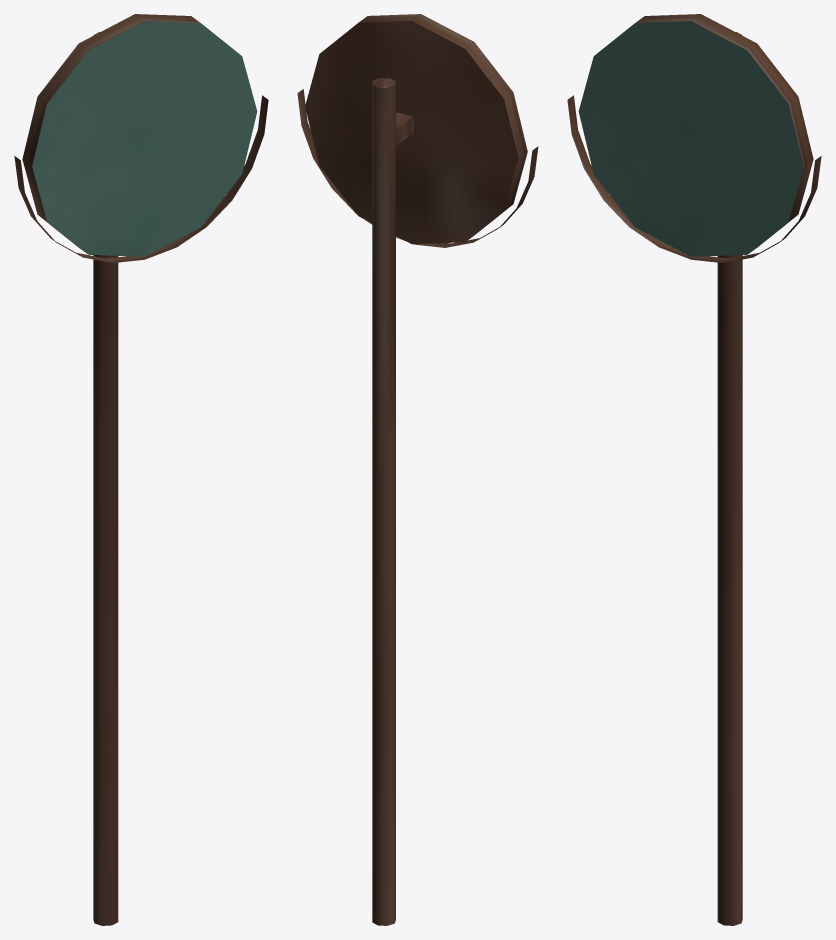
Rendered from curve_mirror.fbx.
3 views of the same model, side by side, from view 1: azimuth 30°, elevation 25°; view 2: azimuth 150°, elevation 25°; view 3: azimuth 330°, elevation 25° (orthographic). The views are drawn at different scales.
Visible parts, largest first — view 1: curve_mirror; view 2: curve_mirror; view 3: curve_mirror.
Boxes of the visible parts, x1,y1,x2,y2 form: curve_mirror: (14,14,268,925); curve_mirror: (297,14,538,925); curve_mirror: (567,14,821,925).
Size of the model in its own units: 0.88 by 3.15 by 0.28.
